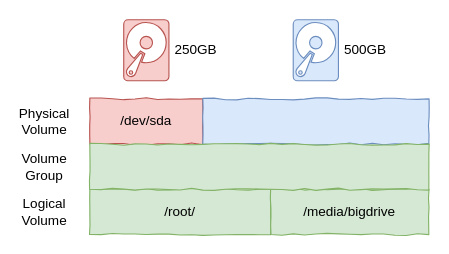
Some shapes in this 449 by 254 pixel diagram are drawn without their labels. The shapes that lost their labels are listed below. From the top down, each one's box as (x1, y1, x2, y2) in pixels, then its label:
(202, 98, 429, 144): /dev/sdb
(89, 143, 429, 189): ubuntu-vg
